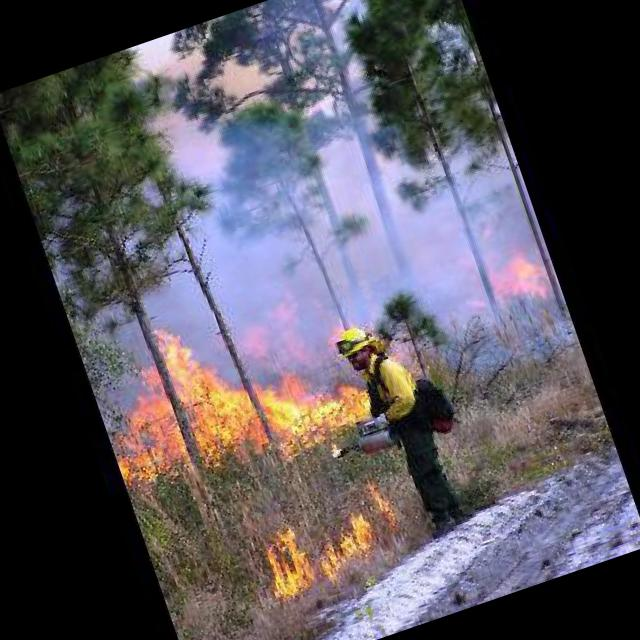fire: (101, 277, 378, 499), (256, 464, 419, 598), (450, 222, 554, 322)
